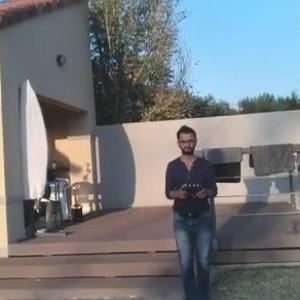follow: (161, 118, 223, 299)
